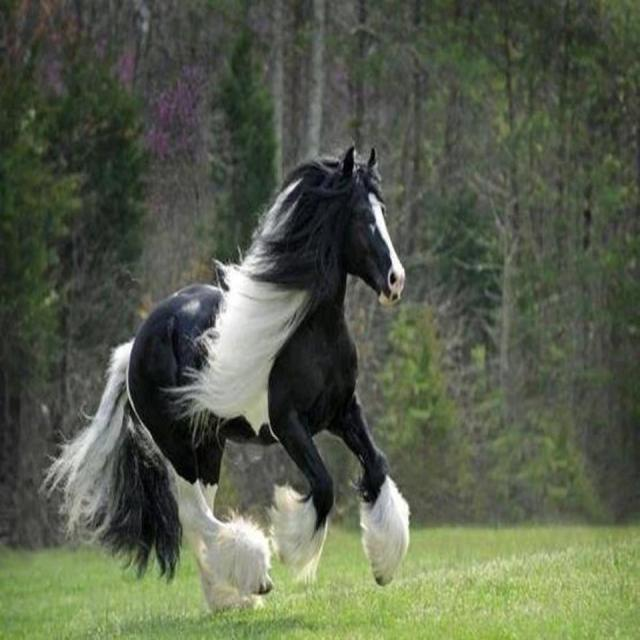horse: (38, 142, 411, 614)
